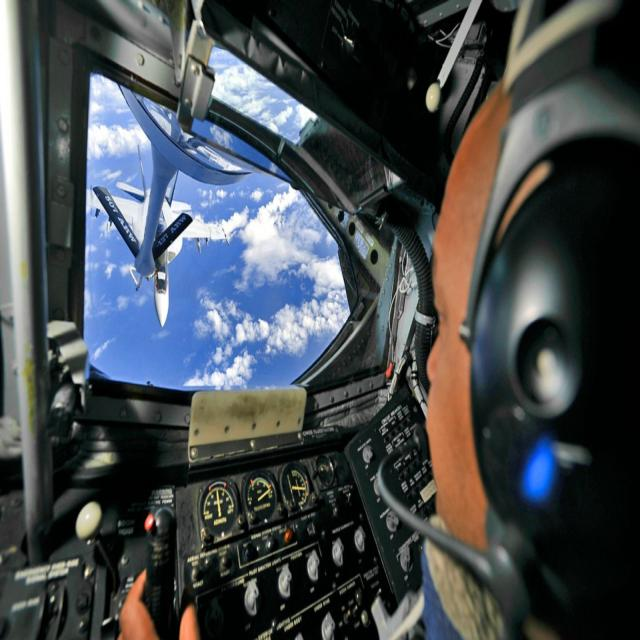MIL_Plane: (86, 142, 230, 329)
